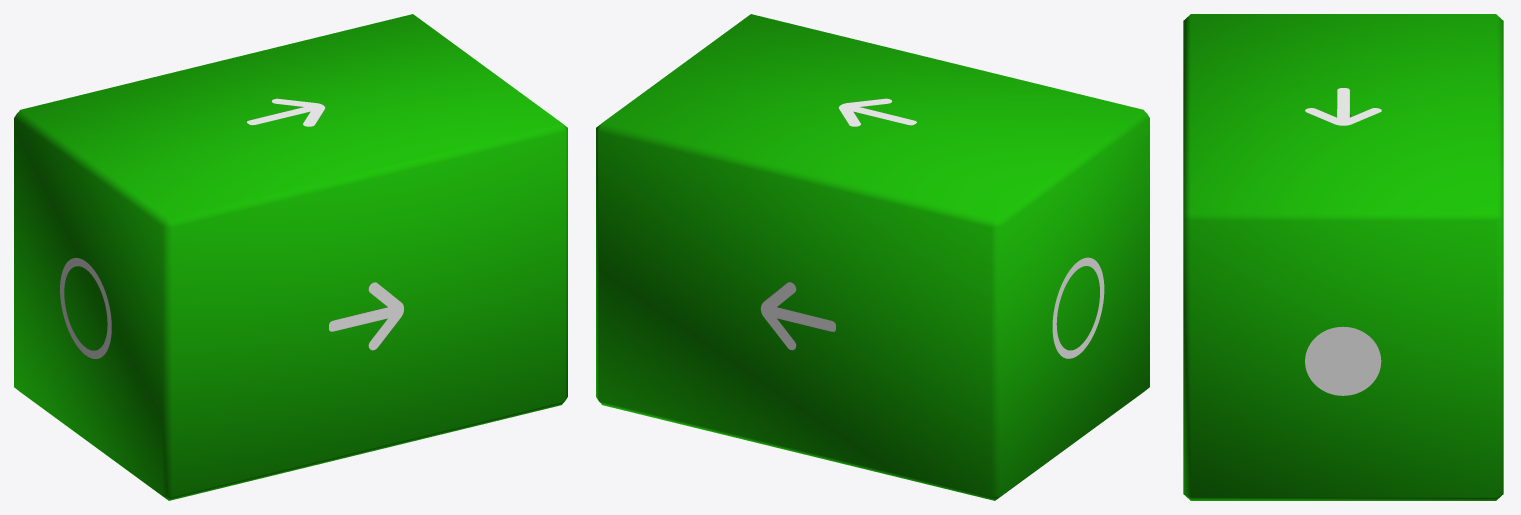
Rendered from BigBoxTapFlowBox_2_2_3_Clean_test2.fbx.
3 views of the same model, side by side, from view 1: azimuth 30°, elevation 25°; view 2: azimuth 150°, elevation 25°; view 3: azimuth 270°, elevation 25° (orthographic). The views are drawn at different scales.
Visible parts, largest first — view 1: BigBoxTapFlowBox_2_2_3_Clean_test; view 2: BigBoxTapFlowBox_2_2_3_Clean_test; view 3: BigBoxTapFlowBox_2_2_3_Clean_test.
Part boxes in pixels (left/top/right/bottom): BigBoxTapFlowBox_2_2_3_Clean_test: left=14, top=14, right=567, bottom=500; BigBoxTapFlowBox_2_2_3_Clean_test: left=596, top=14, right=1149, bottom=500; BigBoxTapFlowBox_2_2_3_Clean_test: left=1183, top=14, right=1503, bottom=500.
Size of the model in its own units: 3.18 by 2.16 by 2.15.
